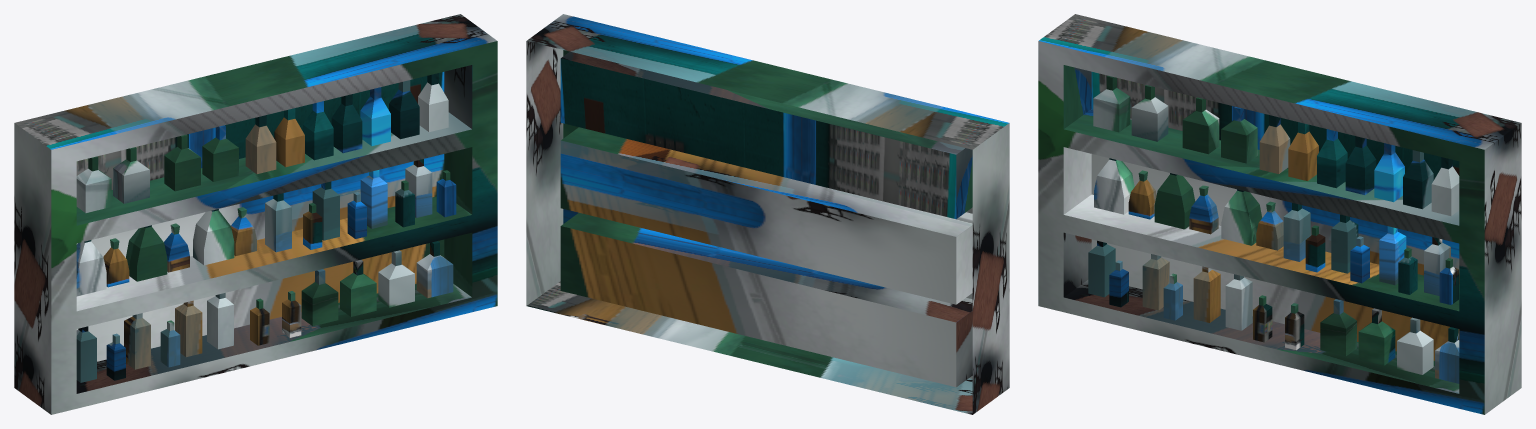
The model's file is bar_shelf.fbx.
The picture shows the model from 3 angles, left to right: view 1: azimuth 30°, elevation 25°; view 2: azimuth 150°, elevation 25°; view 3: azimuth 330°, elevation 25°; orthographic projection.
Parts seen in each view (by area): view 1: SHELF, Cube.008, Cube.007, small bottle.016, small bottle.019, small bottle.021, small bottle.022, small bottle.023, small bottle.018, small bottle.017, small bottle.020, Cube.006 (+26 smaller); view 2: SHELF; view 3: SHELF, Cube.007, Cube.008, Cube.019, small bottle.020, small bottle.022, small bottle.021, small bottle.017, small bottle.016, small bottle.023, small bottle.018, Cube.002 (+26 smaller).
Boxes of the visible parts, x1=… form: SHELF: x1=14, y1=14, x2=497, y2=414; Cube.008: x1=193, y1=209, x2=234, y2=265; Cube.007: x1=126, y1=225, x2=167, y2=281; small bottle.016: x1=301, y1=269, x2=338, y2=326; small bottle.019: x1=416, y1=241, x2=453, y2=298; small bottle.021: x1=113, y1=147, x2=149, y2=203; small bottle.022: x1=164, y1=134, x2=200, y2=191; small bottle.023: x1=202, y1=125, x2=238, y2=181; small bottle.018: x1=378, y1=250, x2=414, y2=307; small bottle.017: x1=340, y1=259, x2=376, y2=316; small bottle.020: x1=76, y1=156, x2=111, y2=212; Cube.006: x1=245, y1=115, x2=276, y2=173; SHELF: x1=526, y1=14, x2=1009, y2=414; SHELF: x1=1038, y1=14, x2=1521, y2=414; Cube.007: x1=1154, y1=173, x2=1195, y2=229; Cube.008: x1=1221, y1=189, x2=1262, y2=245; Cube.019: x1=1094, y1=158, x2=1134, y2=214; small bottle.020: x1=1093, y1=75, x2=1130, y2=132; small bottle.022: x1=1182, y1=97, x2=1219, y2=154; small bottle.021: x1=1131, y1=85, x2=1168, y2=141; small bottle.017: x1=1358, y1=308, x2=1395, y2=365; small bottle.016: x1=1320, y1=299, x2=1356, y2=356; small bottle.023: x1=1221, y1=107, x2=1257, y2=163; small bottle.018: x1=1397, y1=317, x2=1433, y2=374; Cube.002: x1=1345, y1=136, x2=1376, y2=194.
Size of the model in its own units: 1399 by 794 by 200.
